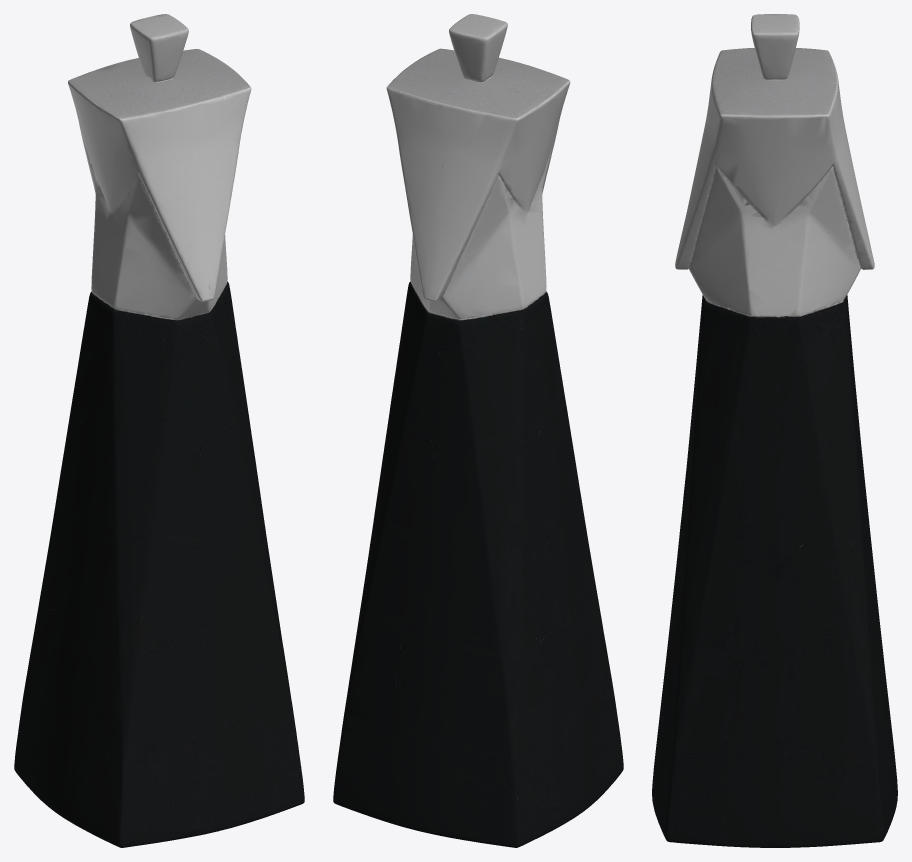
File: king-black-hd.glb
3 views of the same model, side by side, from view 1: azimuth 30°, elevation 25°; view 2: azimuth 150°, elevation 25°; view 3: azimuth 270°, elevation 25° (orthographic).
Bounding box in the file's own units: 0.4993 × 1.75 × 0.4993.
1 material, 1 textured.
